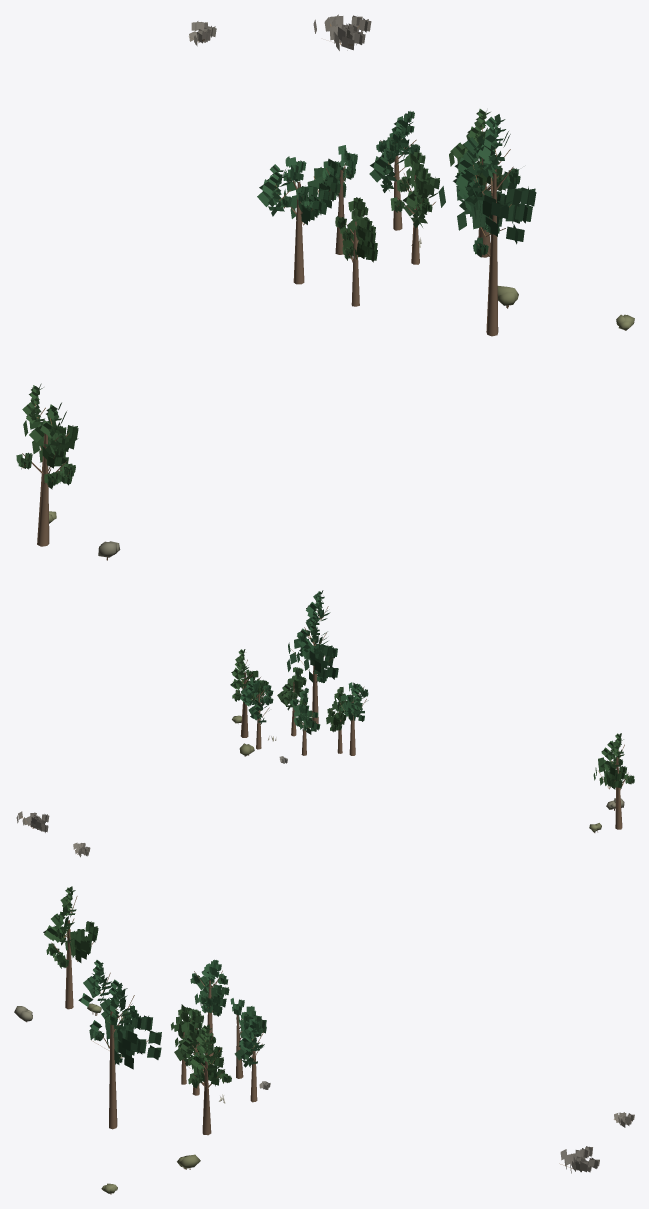
Rendered from coast_land_scatter_c14_19.glb.
3 renders of one model, top to bottom at view 1: azimuth 30°, elevation 25°; view 2: azimuth 150°, elevation 25°; view 3: azimuth 270°, elevation 25°, orthographic. The views are drawn at different scales.
Parts seen in each view (by area): view 1: coast_land_scatter_c14_19; view 2: coast_land_scatter_c14_19; view 3: coast_land_scatter_c14_19.
Boxes of the visible parts, x1,y1,x2,y2 form: coast_land_scatter_c14_19: (16,14,634,560); coast_land_scatter_c14_19: (16,590,634,857); coast_land_scatter_c14_19: (14,886,634,1194).
Size of the model in its own units: 50.45 by 20.62 by 52.63.
